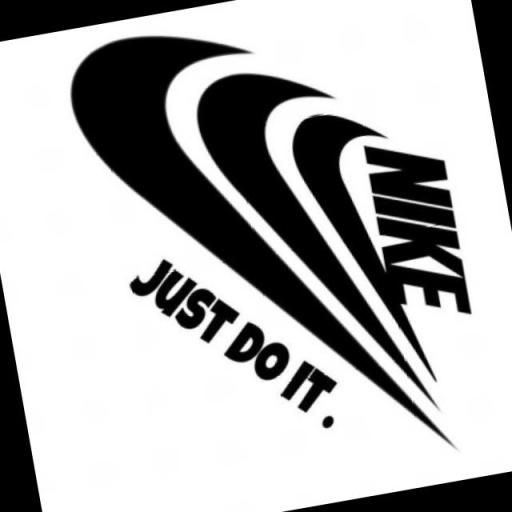Nike: (281, 101, 438, 400), (360, 132, 474, 328)
